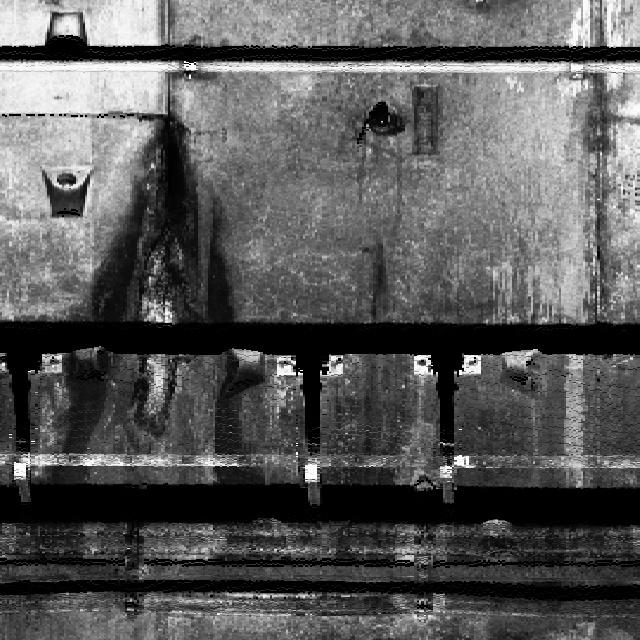leakage: (48, 108, 263, 487)
